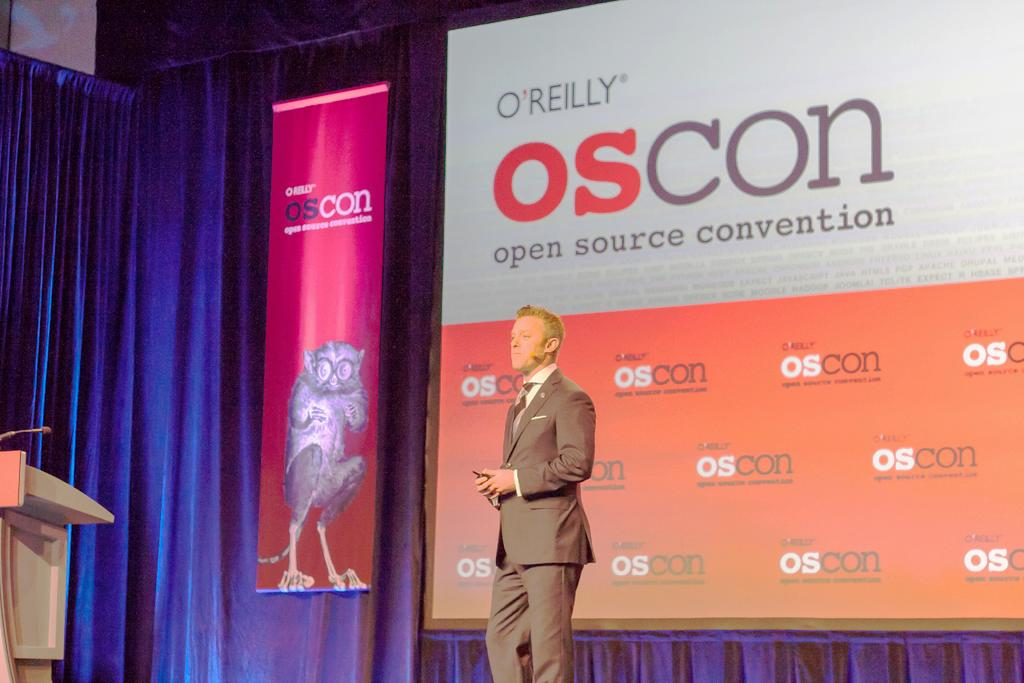Owl: (258, 342, 364, 592)
